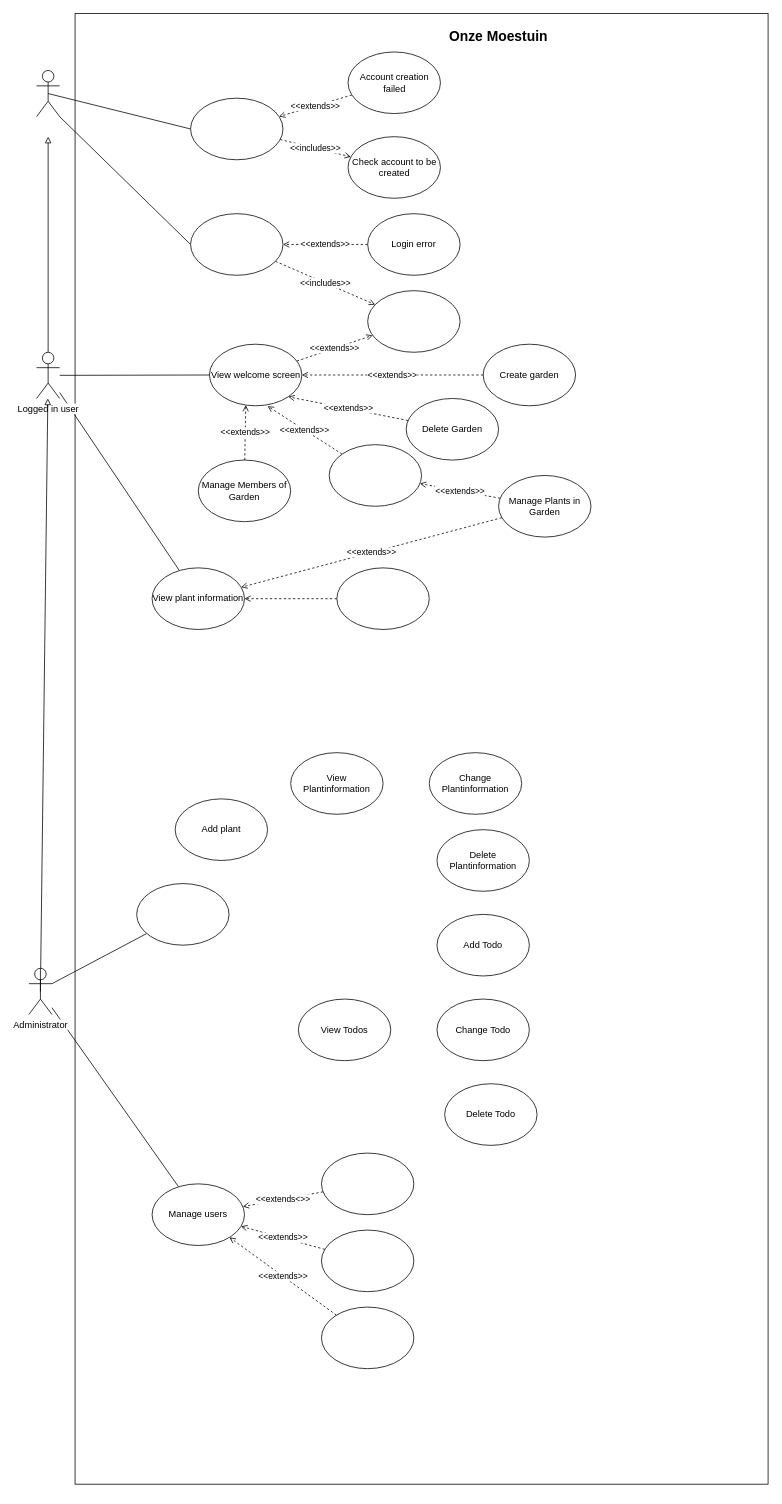
Some shapes in this 782 by 1504 pixel diagram are drawn without their labels. The shapes that lost their labels are listed below. From the top down, each one's centre as x and y in pixels, then its label:
At (x=48, y=93): "User".
At (x=236, y=128): "Create account".
At (x=236, y=244): "User login".
At (x=413, y=321): "Check login credentials".
At (x=375, y=475): "View garden".
At (x=382, y=598): "Add plant to garden".
At (x=182, y=914): "Welcome Administrator".
At (x=367, y=1183): "Add User".
At (x=367, y=1260): "Change User".
At (x=367, y=1337): "Delete User".
